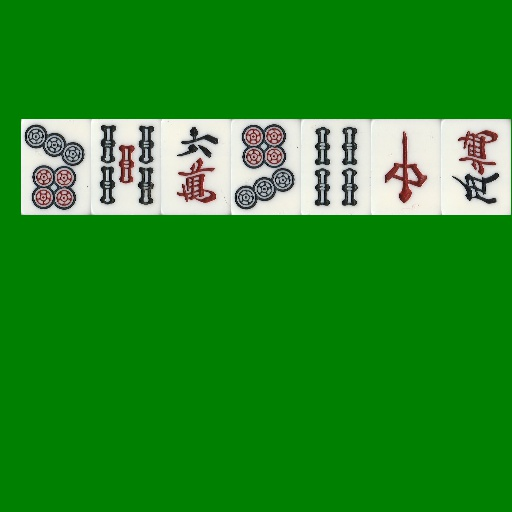4s: (301, 119, 371, 215)
5m: (441, 119, 511, 215)
5s: (91, 119, 161, 215)
6m: (161, 119, 231, 215)
7p: (21, 119, 91, 215), (231, 119, 301, 215)
tyun: (371, 119, 441, 215)
